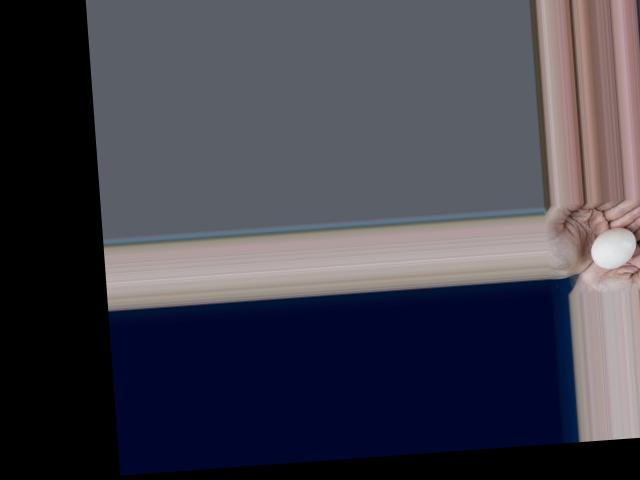egg: (590, 227, 638, 268)
